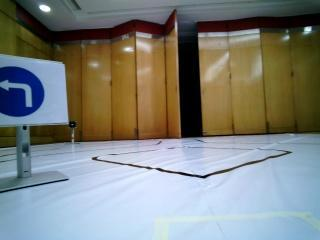left: (4, 57, 61, 123)
